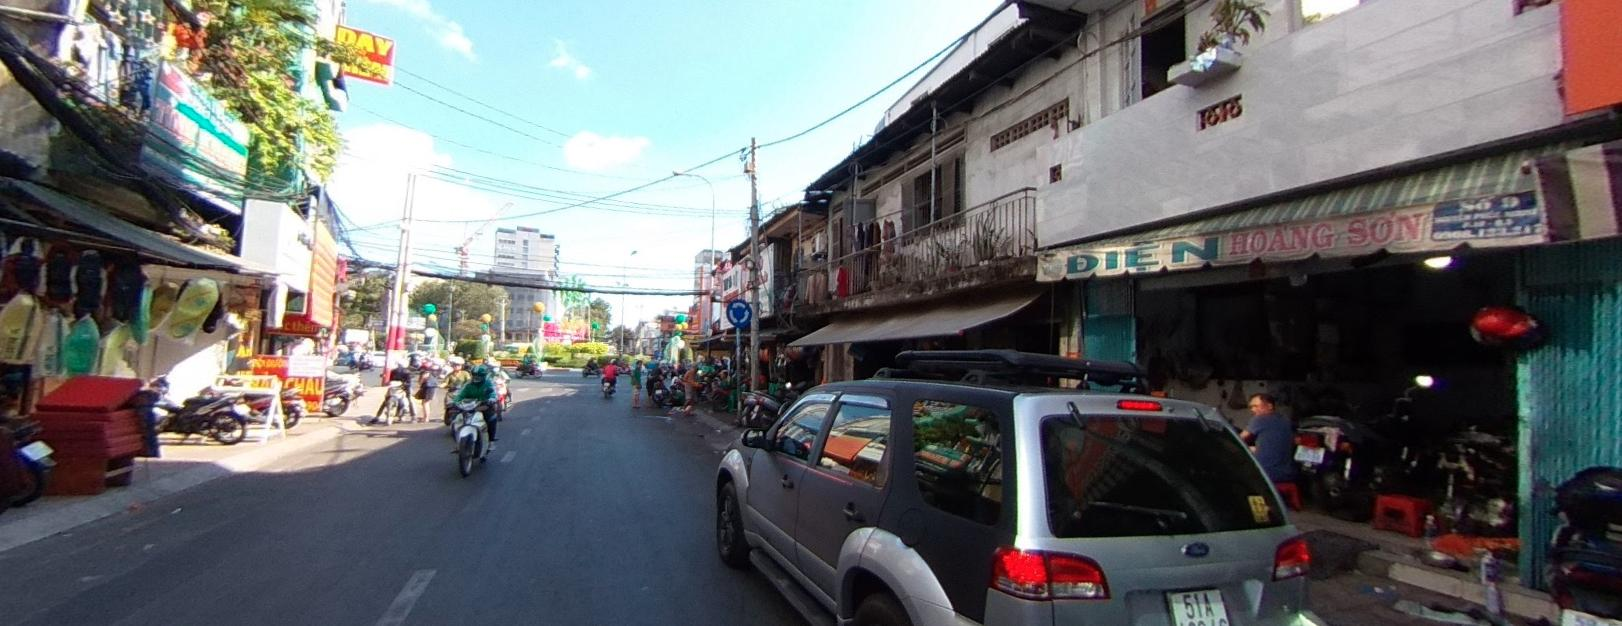Hieu lenh: (726, 297, 750, 324)
